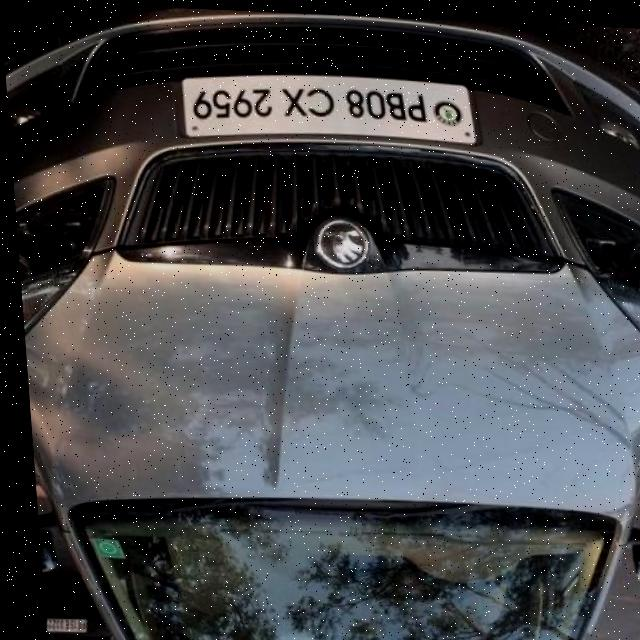plate: (179, 66, 480, 147)
